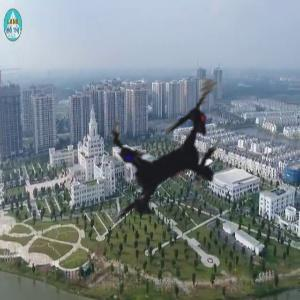drone: (41, 30, 296, 285)
